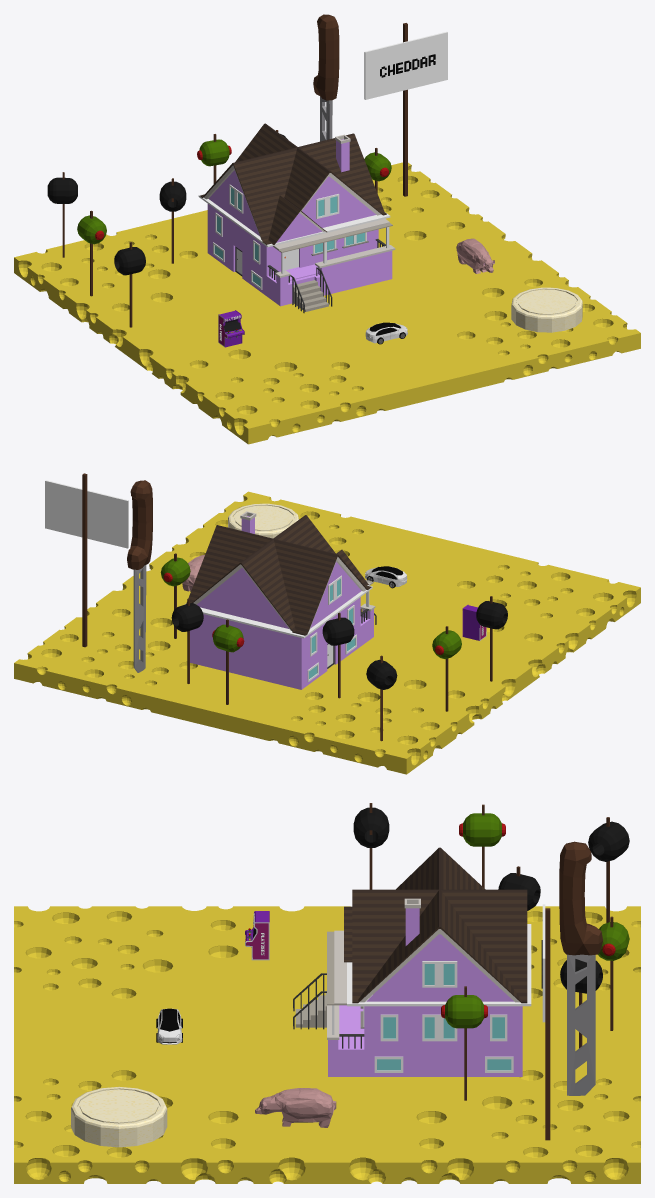
3 views of the same model, one above another, from view 1: azimuth 30°, elevation 25°; view 2: azimuth 150°, elevation 25°; view 3: azimuth 270°, elevation 25° (orthographic). The views are drawn at different scales.
Parts seen in each view (by area): view 1: Cube.022, Cube.391, Cube.023, Cylinder.016, Cube.024, Sphere.017, ANIMAL_HIPOPOTAMO, Sphere.016, Sphere.020, Sphere.018, OBJRANDOM_ARCADE, Sphere.022 (+2 smaller); view 2: Cube.022, Cube.391, Cube.023, Cube.024, Cylinder.016, Sphere.017, Sphere.020, Sphere.021, Sphere.016, Sphere.018, Sphere.022, Sphere.019 (+2 smaller); view 3: Cube.022, Cube.391, Cube.024, Cylinder.016, ANIMAL_HIPOPOTAMO, Cube.023, Sphere.019, Sphere.016, Sphere.018, Sphere.017, Sphere.022, OBJRANDOM_ARCADE (+3 smaller).
Boxes of the visible parts, x1,y1,x2,y2 form: Cube.022: [14, 162, 640, 444]; Cube.391: [198, 123, 395, 313]; Cube.023: [364, 23, 447, 196]; Cylinder.016: [511, 287, 582, 332]; Cube.024: [313, 14, 339, 141]; Sphere.017: [114, 242, 145, 327]; ANIMAL_HIPOPOTAMO: [456, 238, 494, 273]; Sphere.016: [47, 172, 77, 257]; Sphere.020: [159, 178, 186, 263]; Sphere.018: [77, 210, 106, 296]; OBJRANDOM_ARCADE: [218, 310, 244, 347]; Sphere.022: [197, 134, 231, 183]; Cube.022: [14, 491, 640, 774]; Cube.391: [185, 511, 376, 689]; Cube.023: [45, 473, 128, 647]; Cube.024: [127, 480, 152, 672]; Cylinder.016: [228, 503, 298, 538]; Sphere.017: [476, 596, 507, 681]; Sphere.020: [322, 612, 354, 698]; Sphere.021: [171, 598, 203, 683]; Sphere.016: [366, 655, 397, 741]; Sphere.018: [432, 626, 461, 711]; Sphere.022: [212, 619, 244, 704]; Sphere.019: [160, 553, 190, 638]; Cube.022: [14, 906, 640, 1183]; Cube.391: [293, 847, 531, 1076]; Cube.024: [559, 841, 602, 1095]; Cylinder.016: [71, 1086, 167, 1147]; ANIMAL_HIPOPOTAMO: [255, 1088, 336, 1127]; Cube.023: [541, 904, 550, 1140]; Sphere.019: [441, 986, 487, 1100]; Sphere.016: [588, 817, 629, 922]; Sphere.018: [459, 804, 505, 887]; Sphere.017: [353, 803, 389, 889]; Sphere.022: [598, 916, 629, 1030]; OBJRANDOM_ARCADE: [245, 911, 269, 960].
Bounding box in the file's own units: 3917 × 2030 × 4000.
41 materials, 4 textured.
